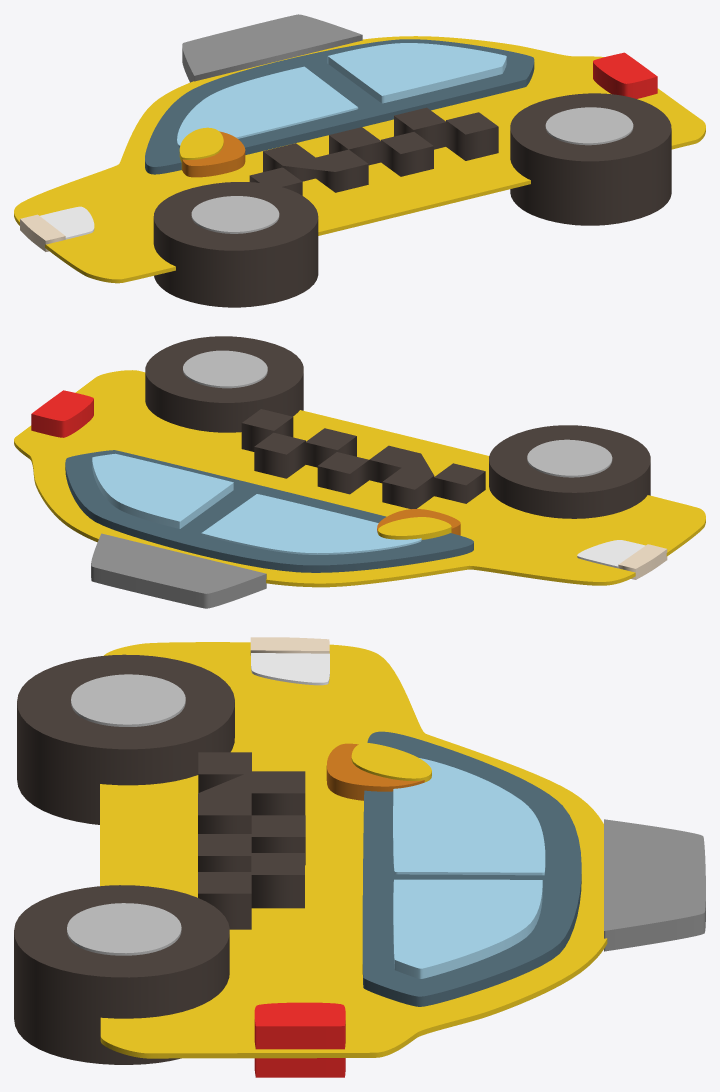
Rendered from emoji_u1f695.glb.
3 renders of one model, top to bottom at view 1: azimuth 30°, elevation 25°; view 2: azimuth 150°, elevation 25°; view 3: azimuth 270°, elevation 25°, orthographic. The views are drawn at different scales.
Parts seen in each view (by area): view 1: emoji_u1f695; view 2: emoji_u1f695; view 3: emoji_u1f695.
Part boxes in pixels (box(x1,y1,x2,y2)): emoji_u1f695: box(14, 14, 705, 307); emoji_u1f695: box(14, 336, 705, 608); emoji_u1f695: box(14, 637, 705, 1077).
Size of the model in its own units: 0.0343 by 0.0036 by 0.0244.
